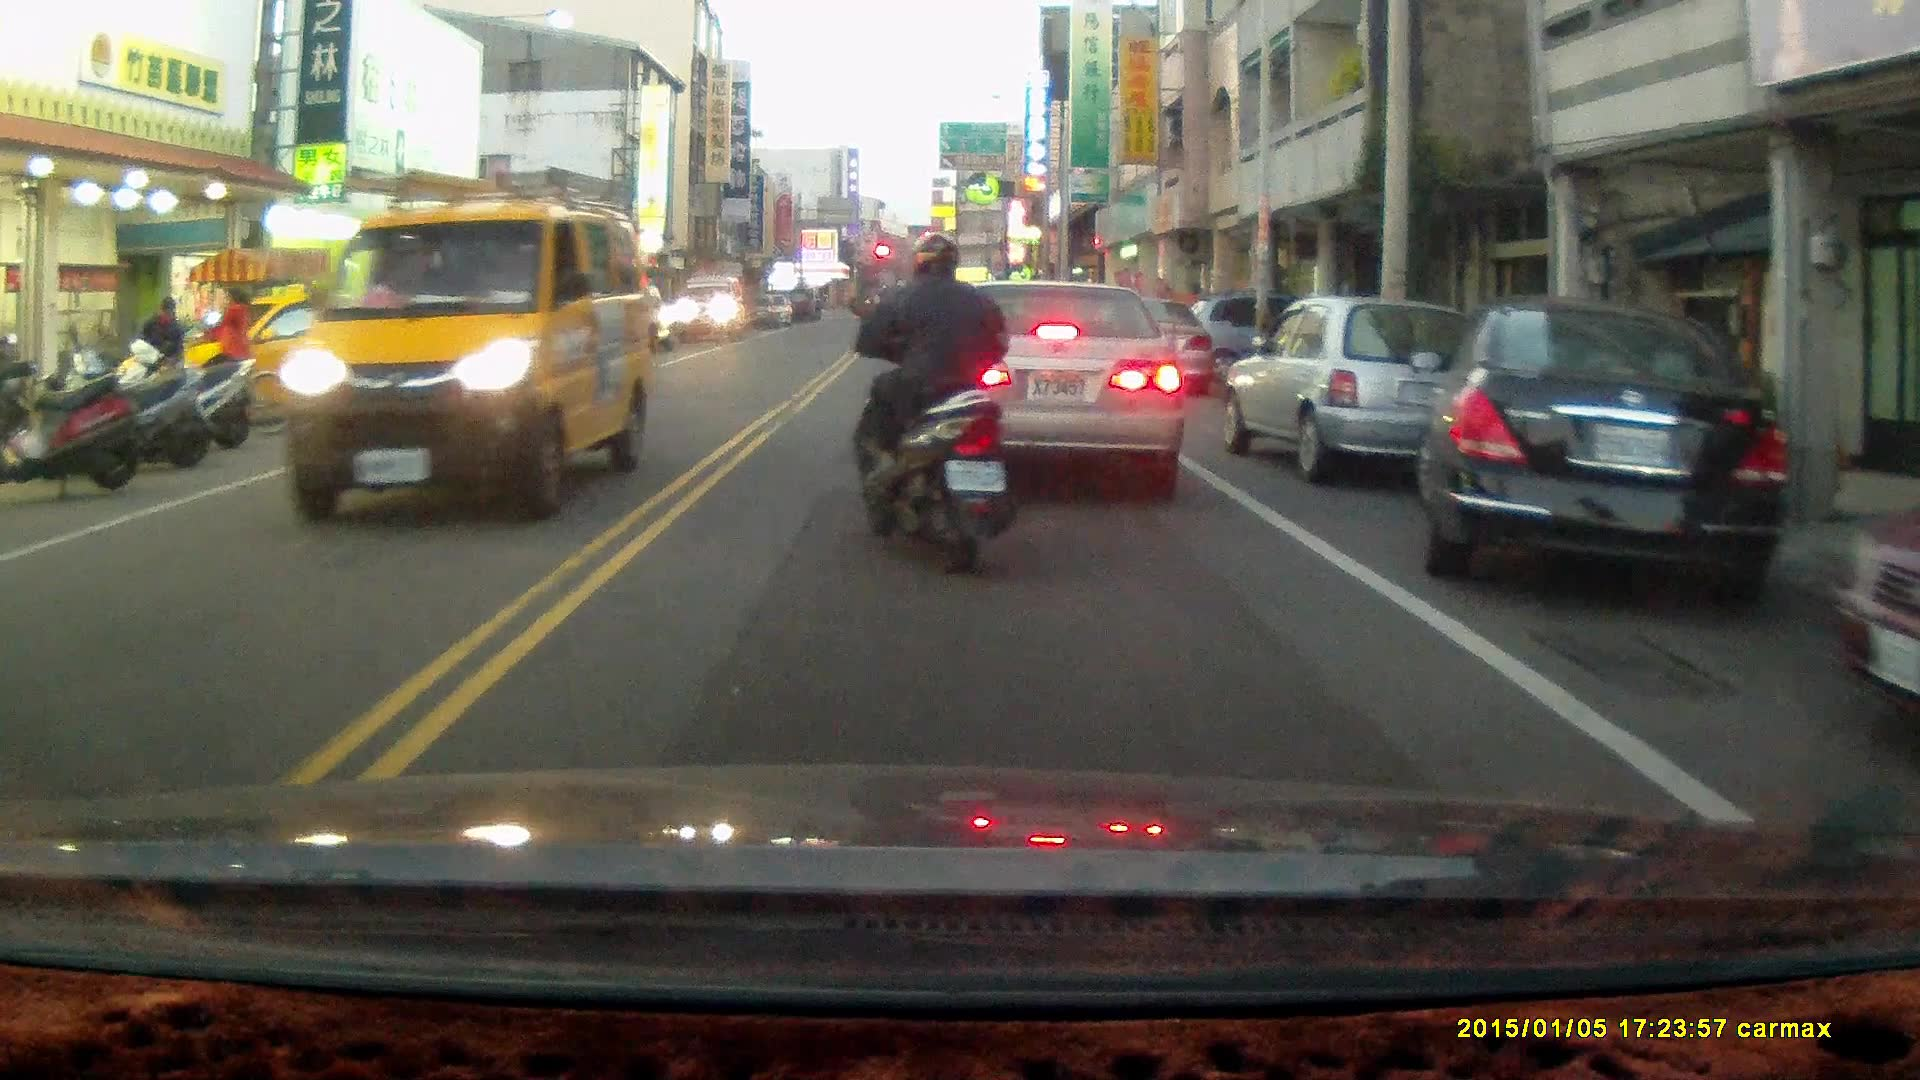pedestrian: (137, 294, 186, 402)
rider: (848, 222, 1029, 573), (171, 282, 292, 440)
vehicle: (272, 166, 664, 526), (1407, 296, 1794, 612), (920, 278, 1191, 494), (1226, 295, 1471, 482), (1851, 519, 1920, 747), (682, 268, 753, 338)
